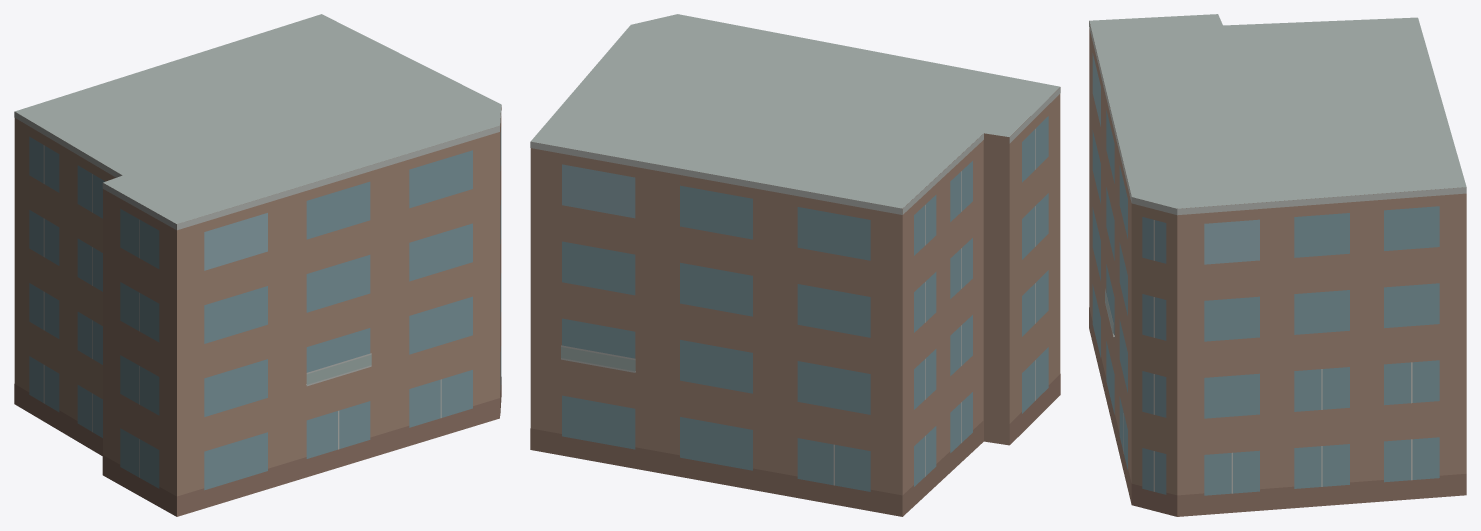
Rendered from survey-upis-32637713.glb.
The picture shows the model from 3 angles, left to right: view 1: azimuth 30°, elevation 25°; view 2: azimuth 150°, elevation 25°; view 3: azimuth 270°, elevation 25°; orthographic projection. The views are drawn at different scales.
Parts seen in each view (by area): view 1: survey-upis-32637713.tmp; view 2: survey-upis-32637713.tmp; view 3: survey-upis-32637713.tmp.
Boxes of the visible parts, bbox=[...] form: survey-upis-32637713.tmp: bbox=[14, 14, 501, 516]; survey-upis-32637713.tmp: bbox=[530, 14, 1060, 516]; survey-upis-32637713.tmp: bbox=[1089, 14, 1466, 516].
Bounding box in the file's own units: 15.87 × 11.7 × 13.
